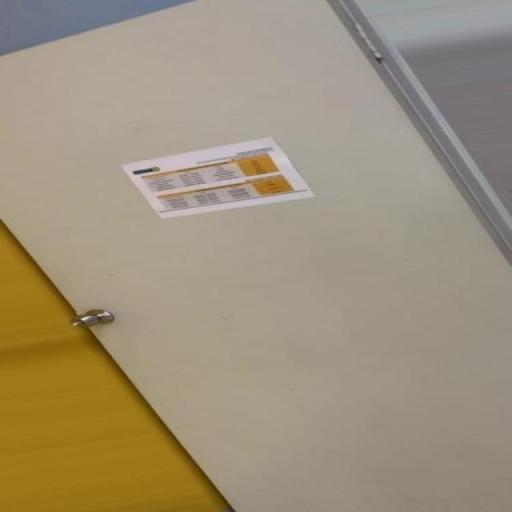door: (1, 0, 509, 510)
